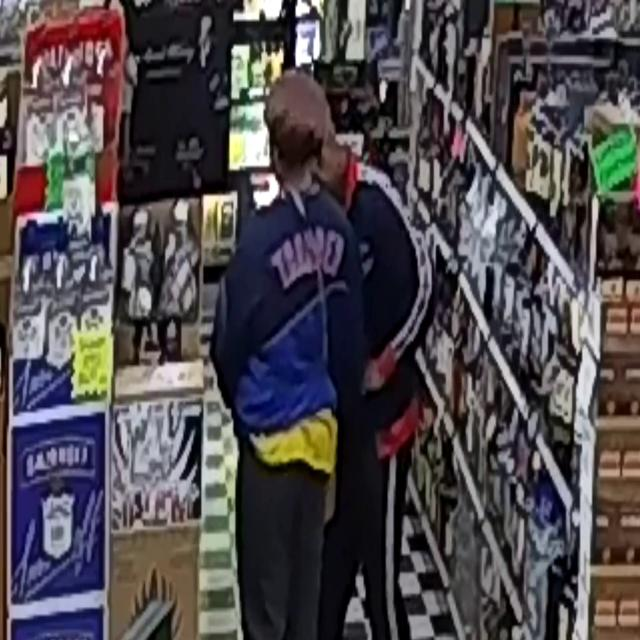normal: (192, 79, 382, 640), (362, 195, 436, 364)
